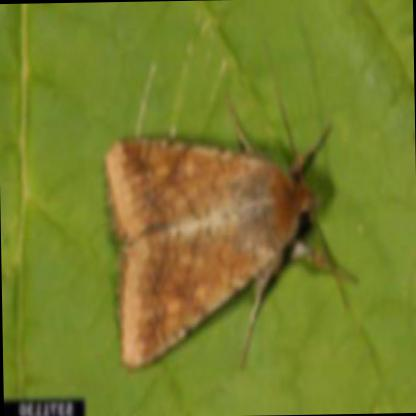helicoverpa: (102, 87, 338, 375)
